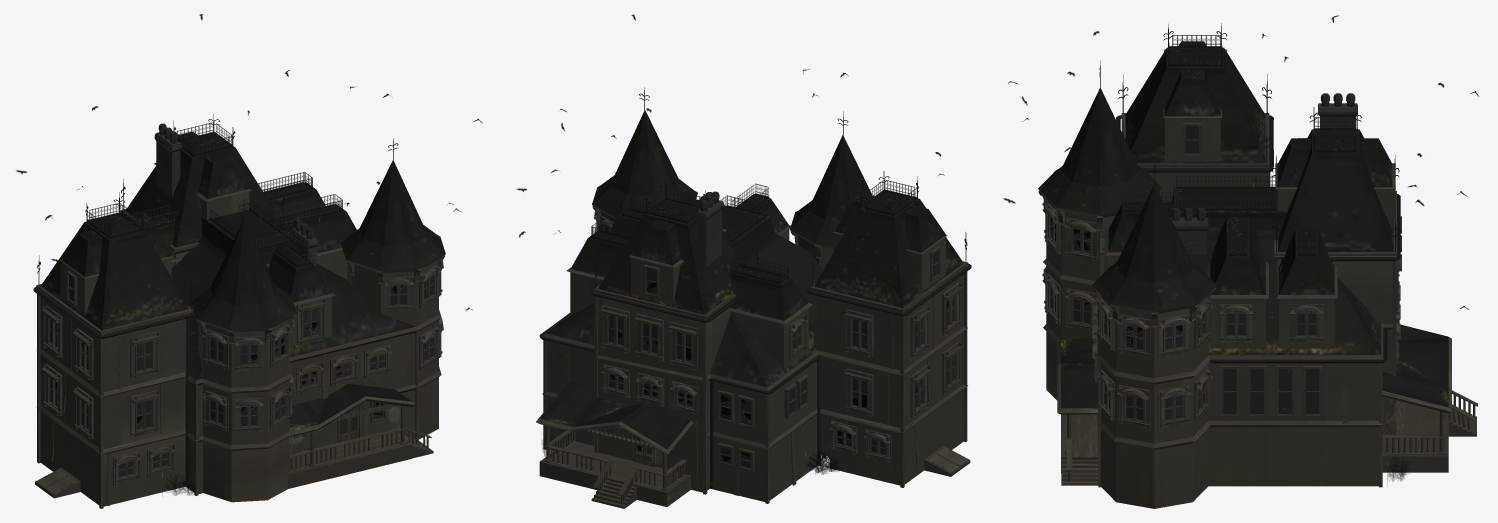
Rendered from haunted_mansion.glb.
3 views of the same model, side by side, from view 1: azimuth 30°, elevation 25°; view 2: azimuth 150°, elevation 25°; view 3: azimuth 270°, elevation 25° (orthographic). The views are drawn at different scales.
Parts seen in each view (by area): view 1: Object_3; view 2: Object_3; view 3: Object_3.
Part boxes in pixels (bbox=[...]): Object_3: bbox=[15, 14, 482, 508]; Object_3: bbox=[516, 14, 971, 508]; Object_3: bbox=[1003, 15, 1479, 508].
Bounding box in the file's own units: 28.66 × 22.44 × 26.8.
1 material, 1 textured.
